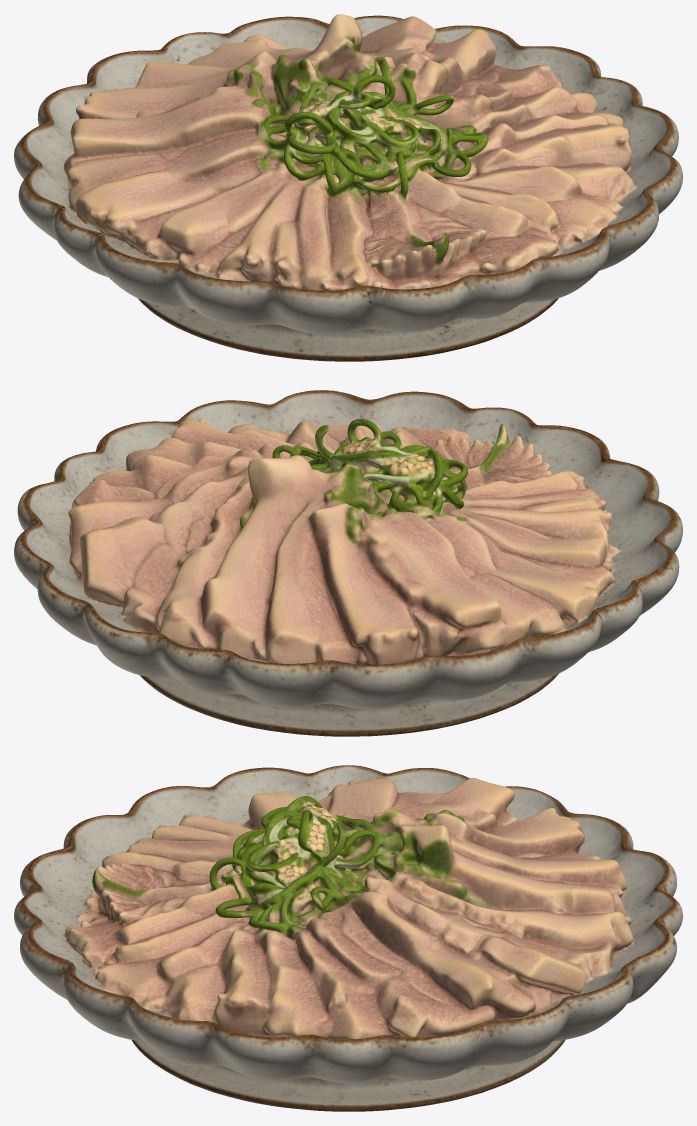
File: 92d5835a-6943-4693-87e7-d8eb336dcbd2.glb
3 renders of one model, top to bottom at view 1: azimuth 30°, elevation 25°; view 2: azimuth 150°, elevation 25°; view 3: azimuth 270°, elevation 25°, orthographic.
Bounding box in the file's own units: 1.9 × 0.6631 × 1.9.
Materials: 1 (1 with a texture image).
